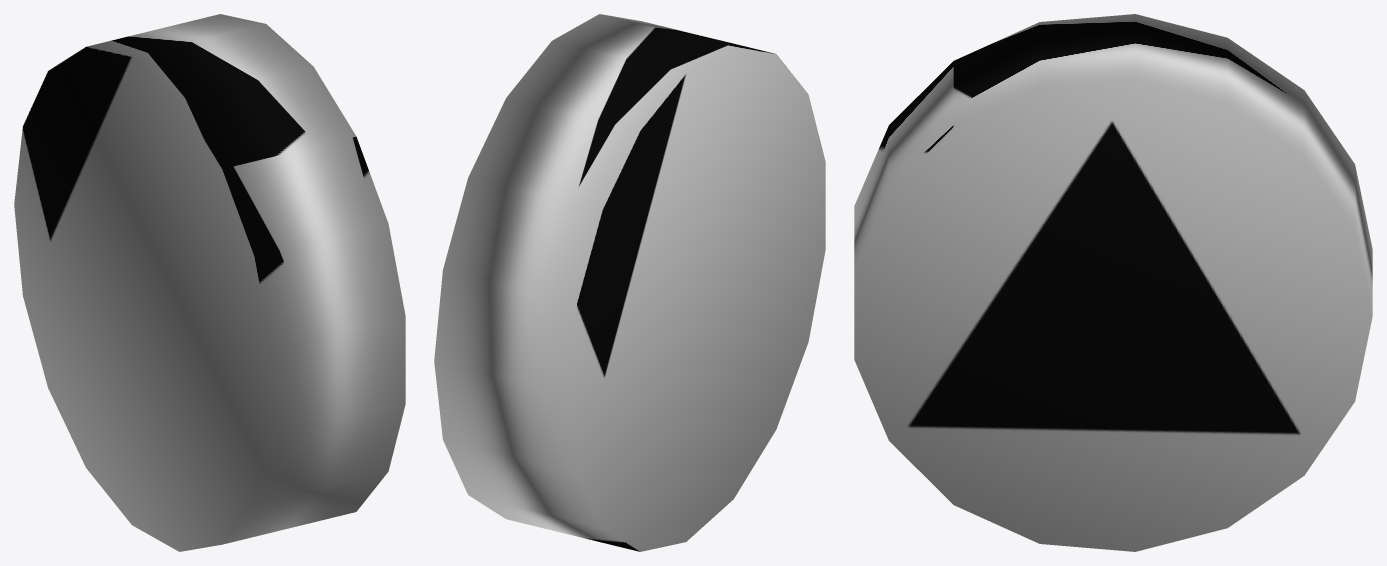
The model's file is BotonSubir.fbx.
The picture shows the model from 3 angles, left to right: view 1: azimuth 30°, elevation 25°; view 2: azimuth 150°, elevation 25°; view 3: azimuth 270°, elevation 25°; orthographic projection.
Visible parts, largest first — view 1: BotonSubir; view 2: BotonSubir; view 3: BotonSubir.
Boxes of the visible parts, x1,y1,x2,y2 form: BotonSubir: [14, 14, 405, 551]; BotonSubir: [434, 14, 825, 551]; BotonSubir: [854, 14, 1372, 551].
Bounding box in the file's own units: 1.94 × 6.47 × 6.44.
